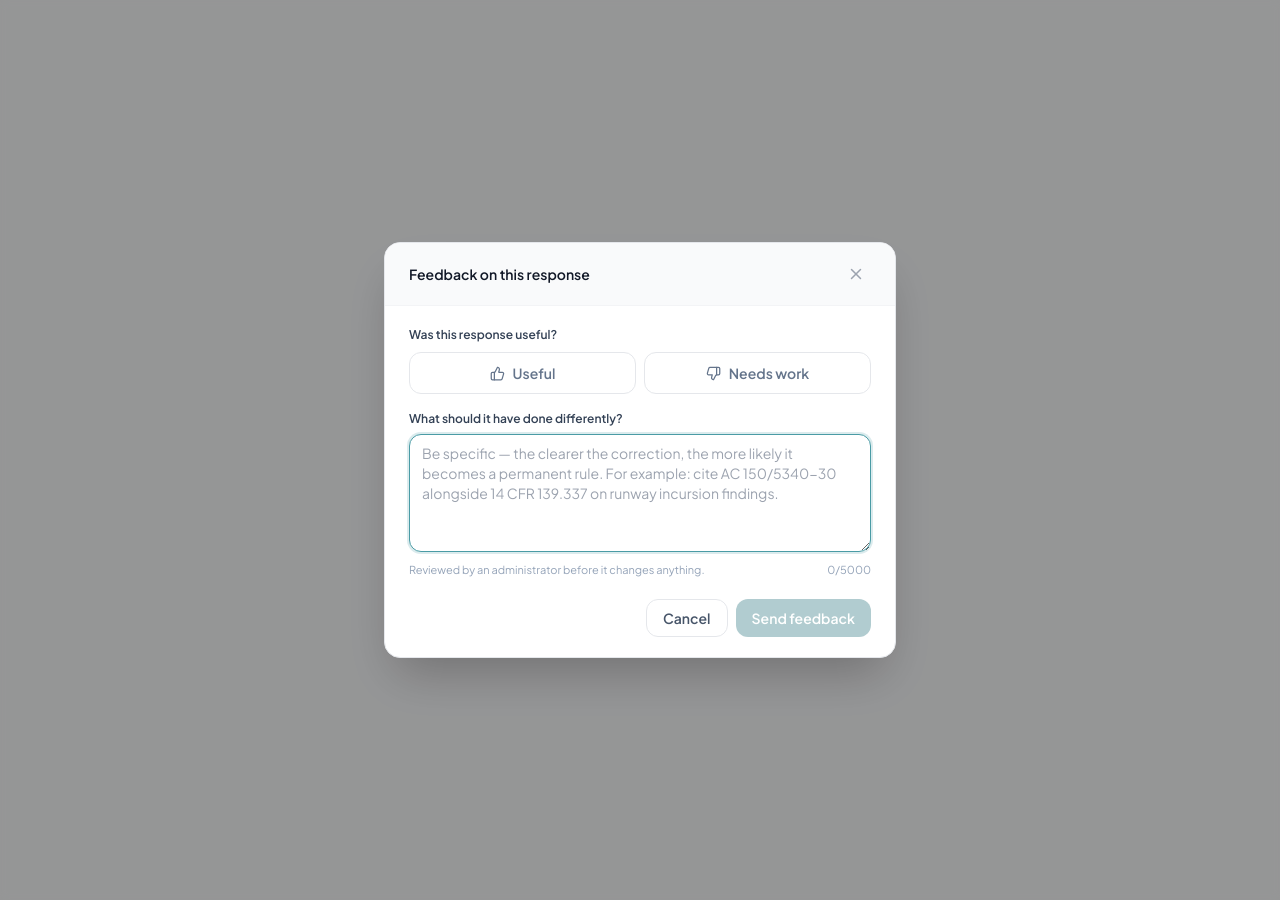
Test: FeedbackModal › surfaces a failure instead of silently dropping the feedback
Click the button "Useful". click: (522,373)
box: x1=409 y1=352 x2=636 y2=394
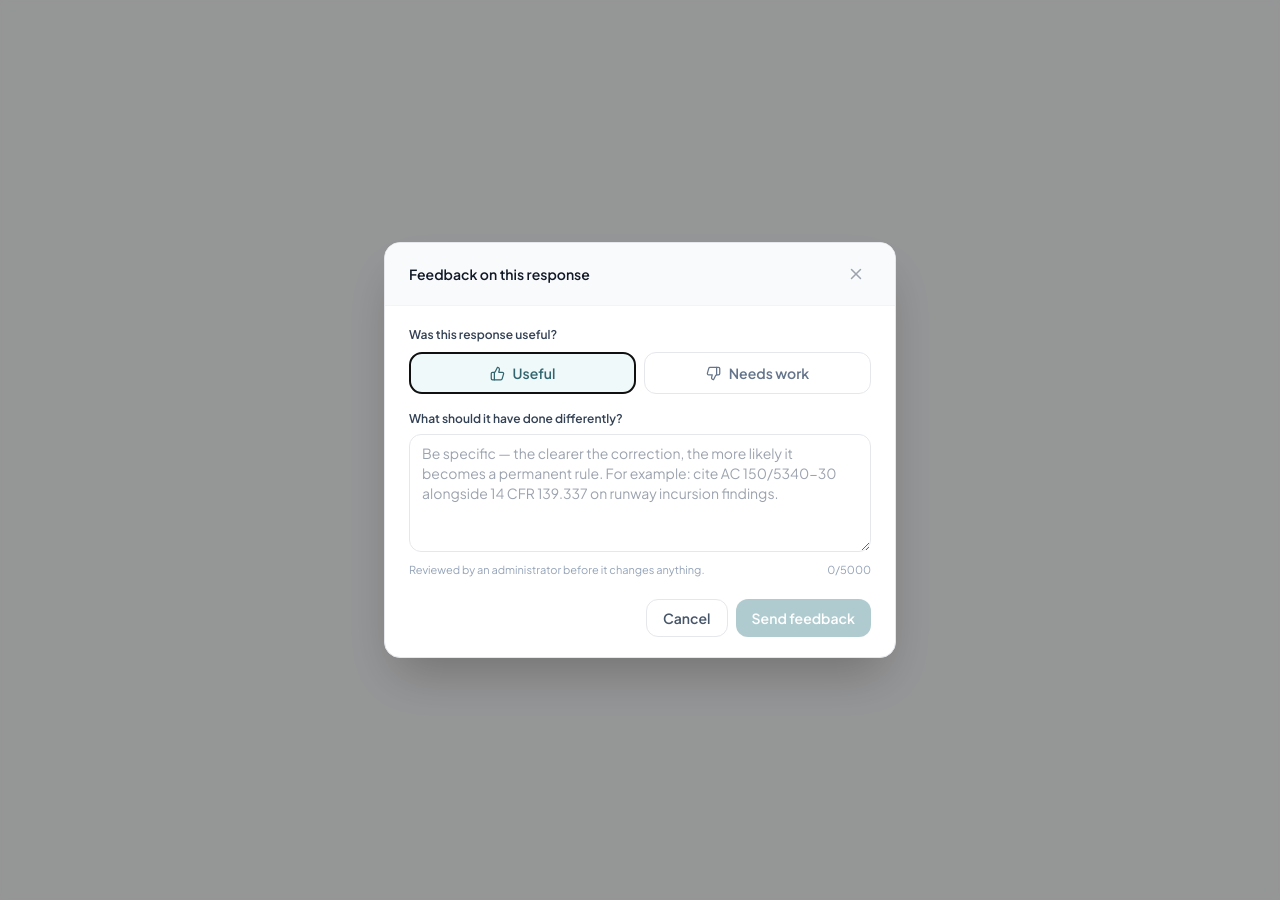
Type "Good." into the text box. click: (640,493)
box: x1=409 y1=434 x2=871 y2=552
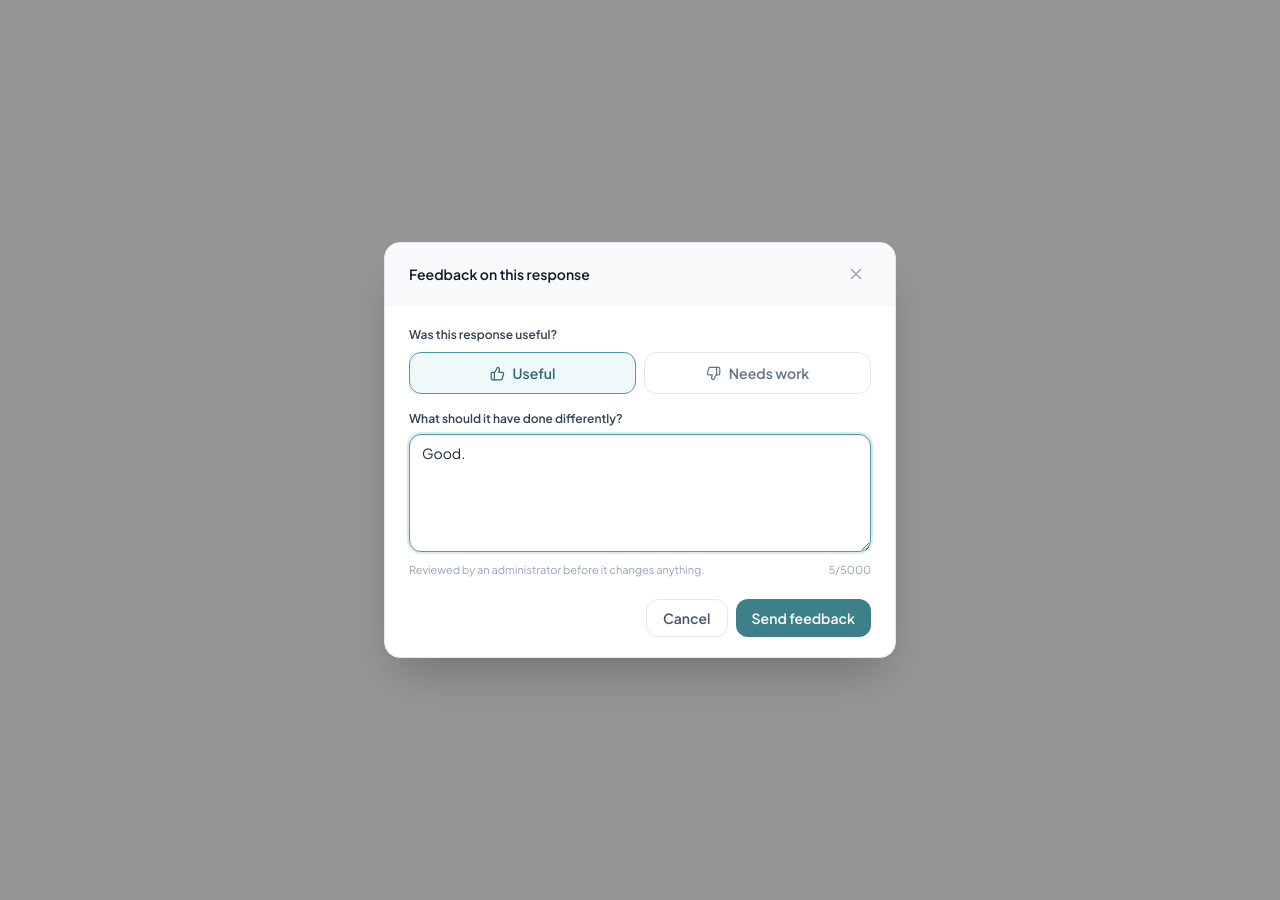
Click the button "Send feedback". click: (803,618)
box: x1=736 y1=599 x2=871 y2=637
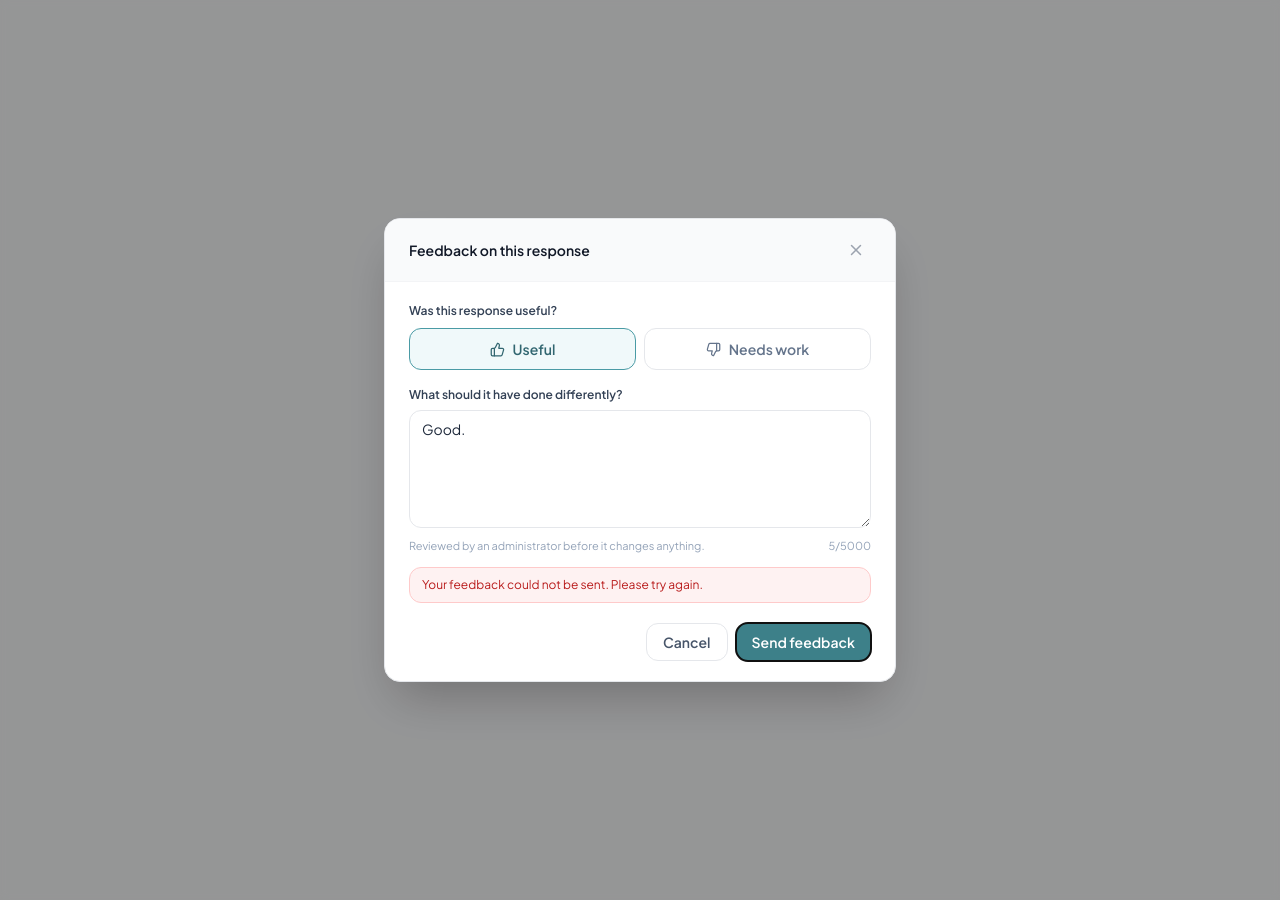
expect the text "Your feedback could not be sent. Please try again." is shown: met, box x1=409 y1=567 x2=871 y2=603
